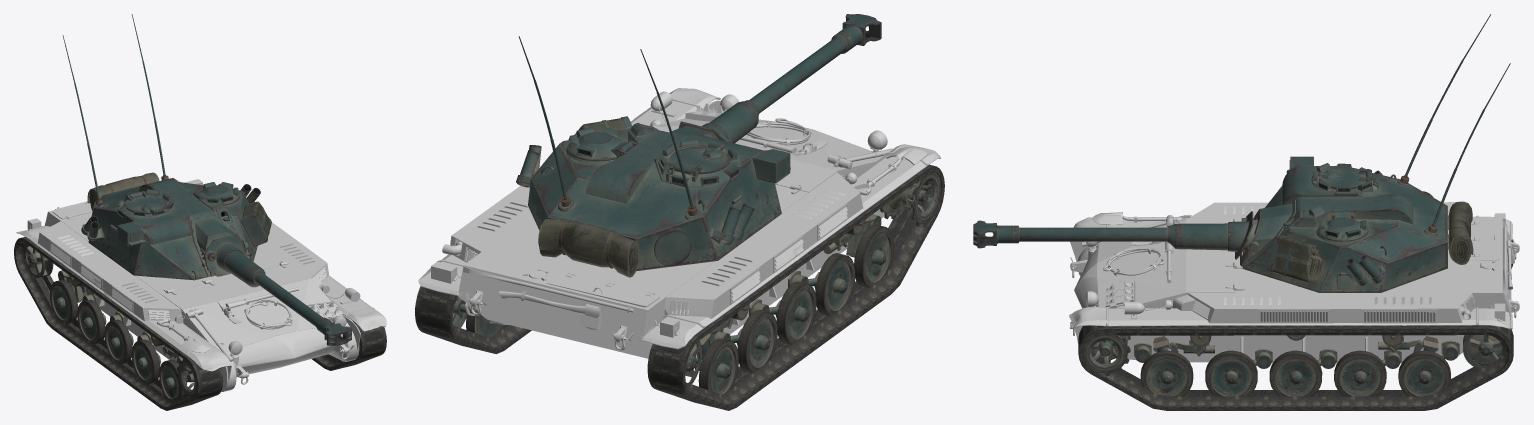
File: AMX ELC bis.fbx
3 renders of one model, left to right at view 1: azimuth 30°, elevation 25°; view 2: azimuth 150°, elevation 25°; view 3: azimuth 270°, elevation 25°, orthographic. The views are drawn at different scales.
Visible parts, largest first — view 1: french\F62_ELC_AMX\normal\l\Hull.pri~5~5, french\F62_ELC_AMX\normal\l\Turret_01.pri~5~6, french\F62_ELC_AMX\normal\l\Chassis.pri~5~3, french\F62_ELC_AMX\normal\l\Chassis.pri~5~1, french\F62_ELC_AMX\normal\l\Gun_03.pri~5~7, french\F62_ELC_AMX\normal\l\Chassis.pri~5~2; view 2: french\F62_ELC_AMX\normal\l\Hull.pri~5~5, french\F62_ELC_AMX\normal\l\Turret_01.pri~5~6, french\F62_ELC_AMX\normal\l\Chassis.pri~5~3, french\F62_ELC_AMX\normal\l\Chassis.pri~5~1, french\F62_ELC_AMX\normal\l\Gun_03.pri~5~7, french\F62_ELC_AMX\normal\l\Chassis.pri~5~2, french\F62_ELC_AMX\normal\l\Chassis.pri~5~4; view 3: french\F62_ELC_AMX\normal\l\Hull.pri~5~5, french\F62_ELC_AMX\normal\l\Turret_01.pri~5~6, french\F62_ELC_AMX\normal\l\Chassis.pri~5~4, french\F62_ELC_AMX\normal\l\Chassis.pri~5~2, french\F62_ELC_AMX\normal\l\Gun_03.pri~5~7.
Boxes of the visible parts, left/top/right/bottom form: french\F62_ELC_AMX\normal\l\Hull.pri~5~5: left=16, top=179, right=386, bottom=391; french\F62_ELC_AMX\normal\l\Turret_01.pri~5~6: left=62, top=14, right=271, bottom=280; french\F62_ELC_AMX\normal\l\Chassis.pri~5~3: left=25, top=246, right=196, bottom=399; french\F62_ELC_AMX\normal\l\Chassis.pri~5~1: left=14, top=237, right=223, bottom=410; french\F62_ELC_AMX\normal\l\Gun_03.pri~5~7: left=200, top=234, right=351, bottom=345; french\F62_ELC_AMX\normal\l\Chassis.pri~5~2: left=312, top=321, right=386, bottom=370; french\F62_ELC_AMX\normal\l\Hull.pri~5~5: left=418, top=88, right=940, bottom=358; french\F62_ELC_AMX\normal\l\Turret_01.pri~5~6: left=516, top=36, right=790, bottom=277; french\F62_ELC_AMX\normal\l\Chassis.pri~5~3: left=685, top=171, right=941, bottom=394; french\F62_ELC_AMX\normal\l\Chassis.pri~5~1: left=647, top=164, right=944, bottom=410; french\F62_ELC_AMX\normal\l\Gun_03.pri~5~7: left=678, top=14, right=881, bottom=143; french\F62_ELC_AMX\normal\l\Chassis.pri~5~2: left=415, top=286, right=531, bottom=353; french\F62_ELC_AMX\normal\l\Chassis.pri~5~4: left=452, top=296, right=501, bottom=337; french\F62_ELC_AMX\normal\l\Hull.pri~5~5: left=1069, top=202, right=1519, bottom=363; french\F62_ELC_AMX\normal\l\Turret_01.pri~5~6: left=1240, top=14, right=1510, bottom=292; french\F62_ELC_AMX\normal\l\Chassis.pri~5~4: left=1082, top=333, right=1502, bottom=396; french\F62_ELC_AMX\normal\l\Chassis.pri~5~2: left=1078, top=325, right=1513, bottom=410; french\F62_ELC_AMX\normal\l\Gun_03.pri~5~7: left=973, top=211, right=1257, bottom=259.
Size of the model in its own units: 2.43 by 3.25 by 5.17.
